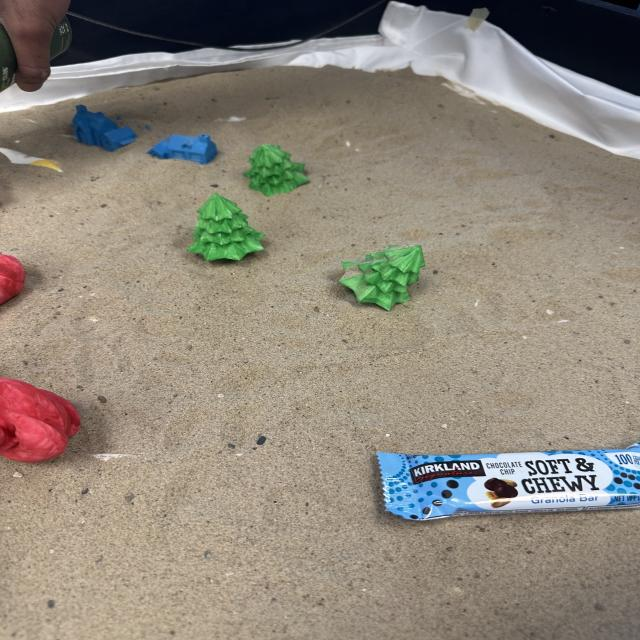fire: (1, 376, 82, 464), (0, 250, 25, 313)
house: (72, 105, 149, 151), (149, 136, 222, 166)
tree: (185, 191, 266, 263), (343, 242, 427, 310), (242, 143, 309, 194)
